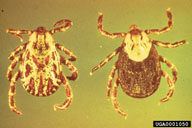Mites: (86, 6, 189, 115), (5, 17, 81, 119)
